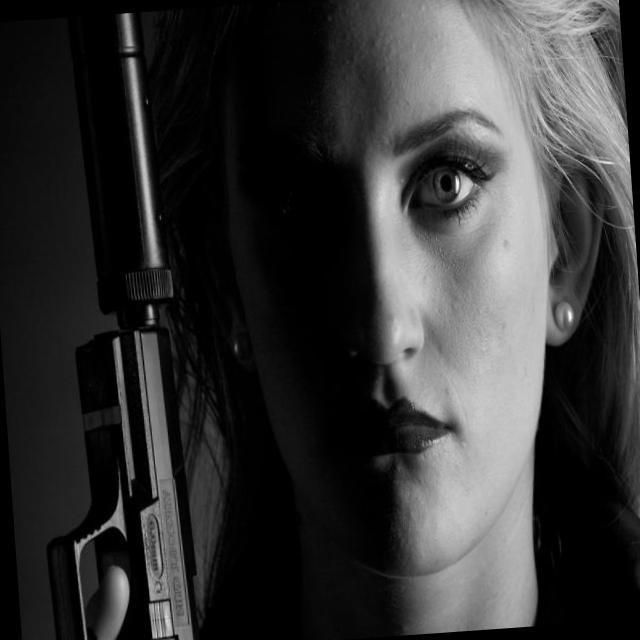Gun: (48, 12, 197, 640)
